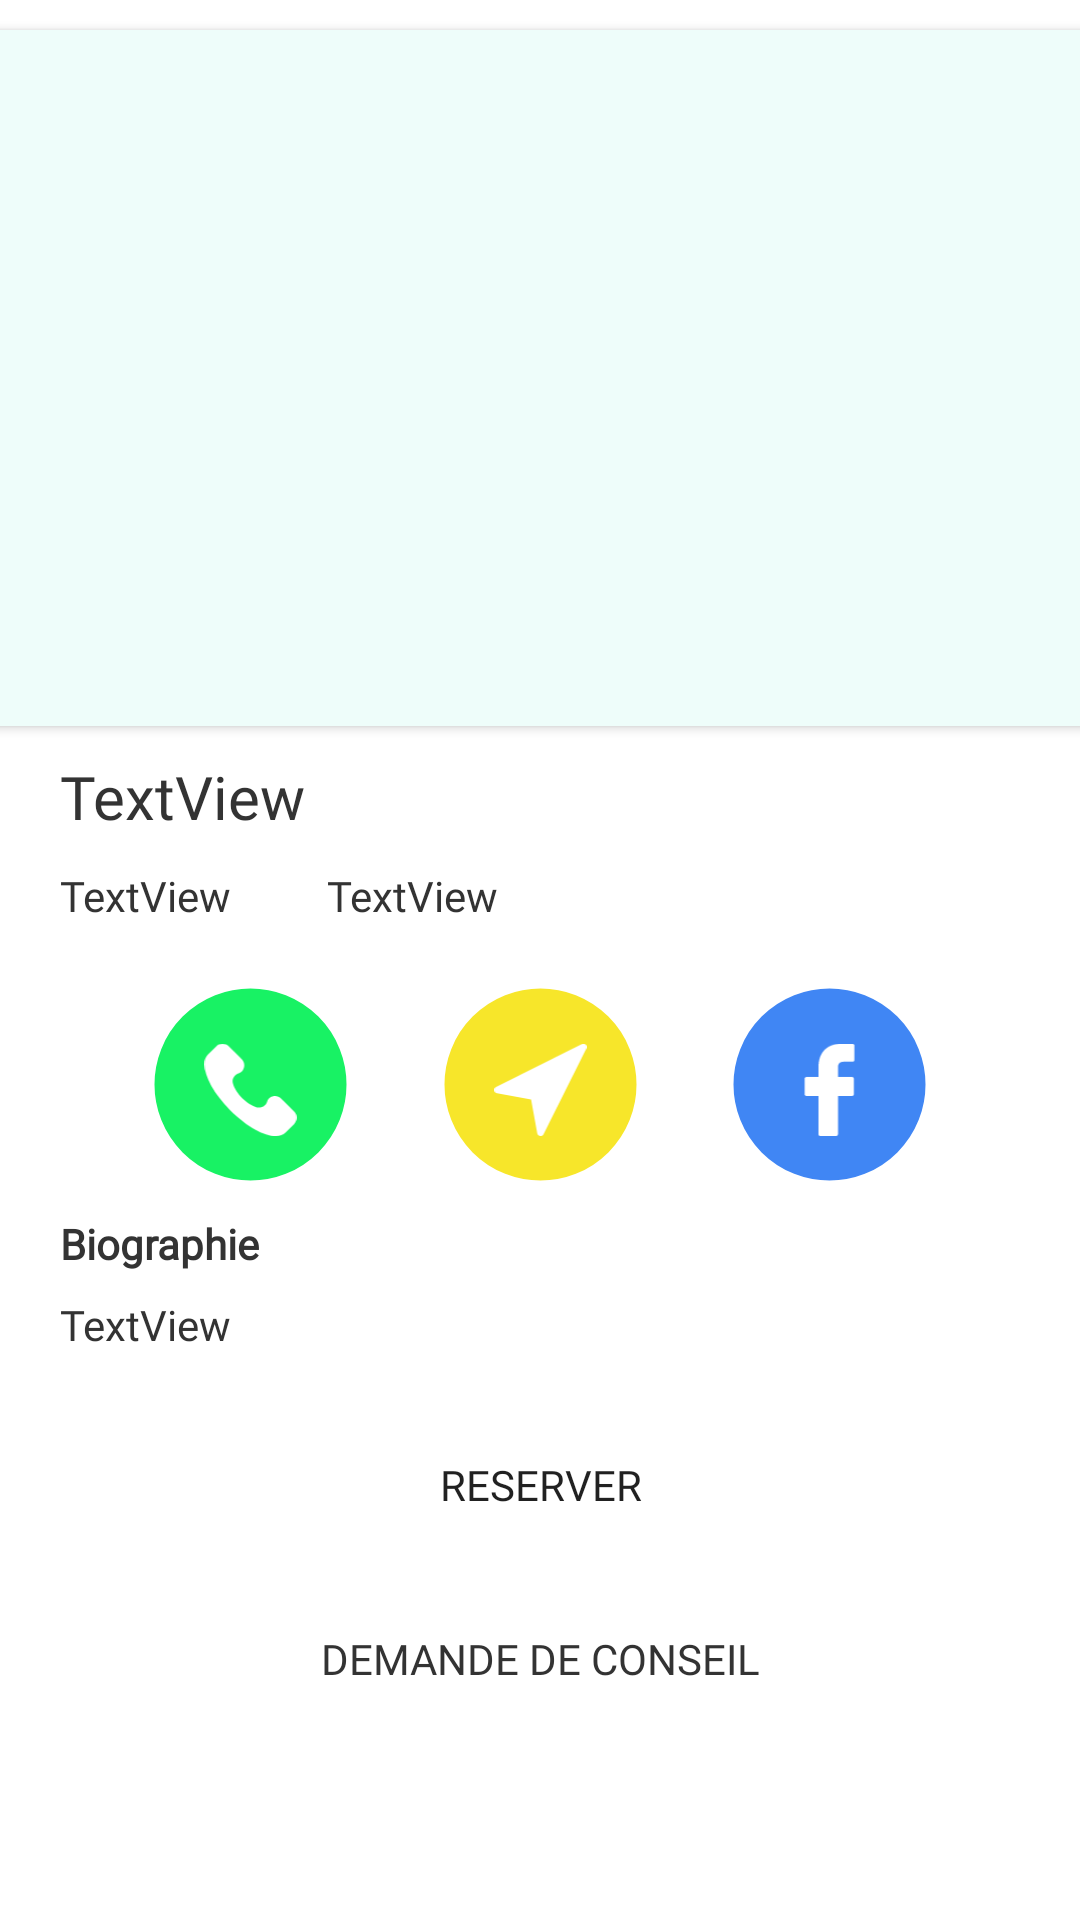

Point at icon controls on the screen. Image size 1080 × 1920, points as [x,y].
localisation: [540,1084]
phone: [250,1084]
